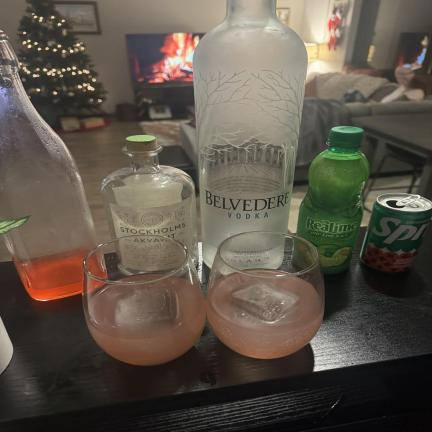container: (194, 0, 307, 272), (0, 34, 110, 300), (83, 234, 205, 365), (207, 231, 324, 358), (102, 148, 198, 278), (294, 148, 369, 274)
fluid: (294, 154, 369, 273), (88, 305, 204, 365), (208, 300, 324, 358), (204, 242, 283, 273), (28, 274, 109, 300)
fluid-surface: (87, 274, 205, 338), (211, 270, 321, 332), (18, 248, 106, 290), (205, 225, 281, 253), (321, 150, 361, 159)
